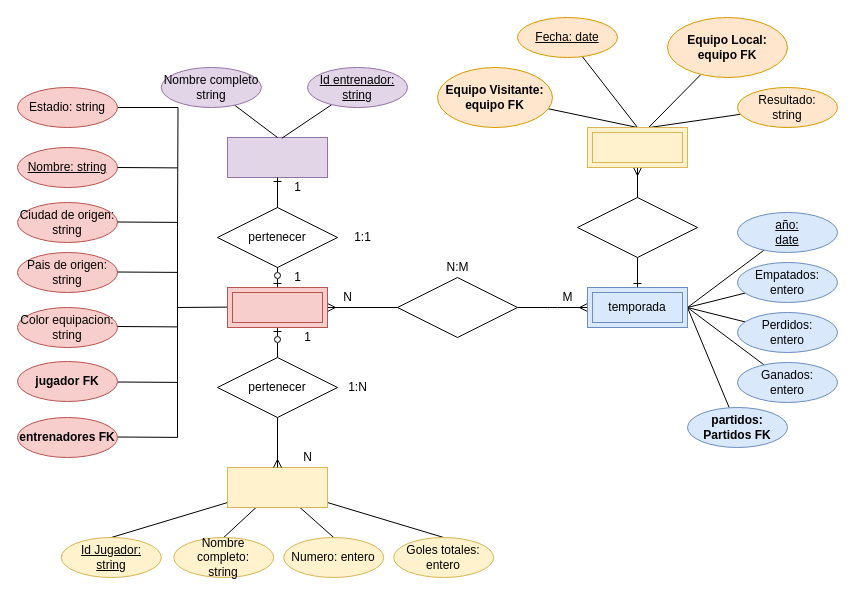
Some shapes in this 855 by 596 pixel diagram are drawn without their labels. Each missing label, with the box of its shape:
celebrar: (576, 196, 698, 258)
entrenadores: (226, 136, 328, 178)
equipos: (226, 286, 328, 328)
jugador: (226, 466, 328, 508)
jugar: (396, 276, 518, 338)
partidos: (586, 126, 688, 168)
